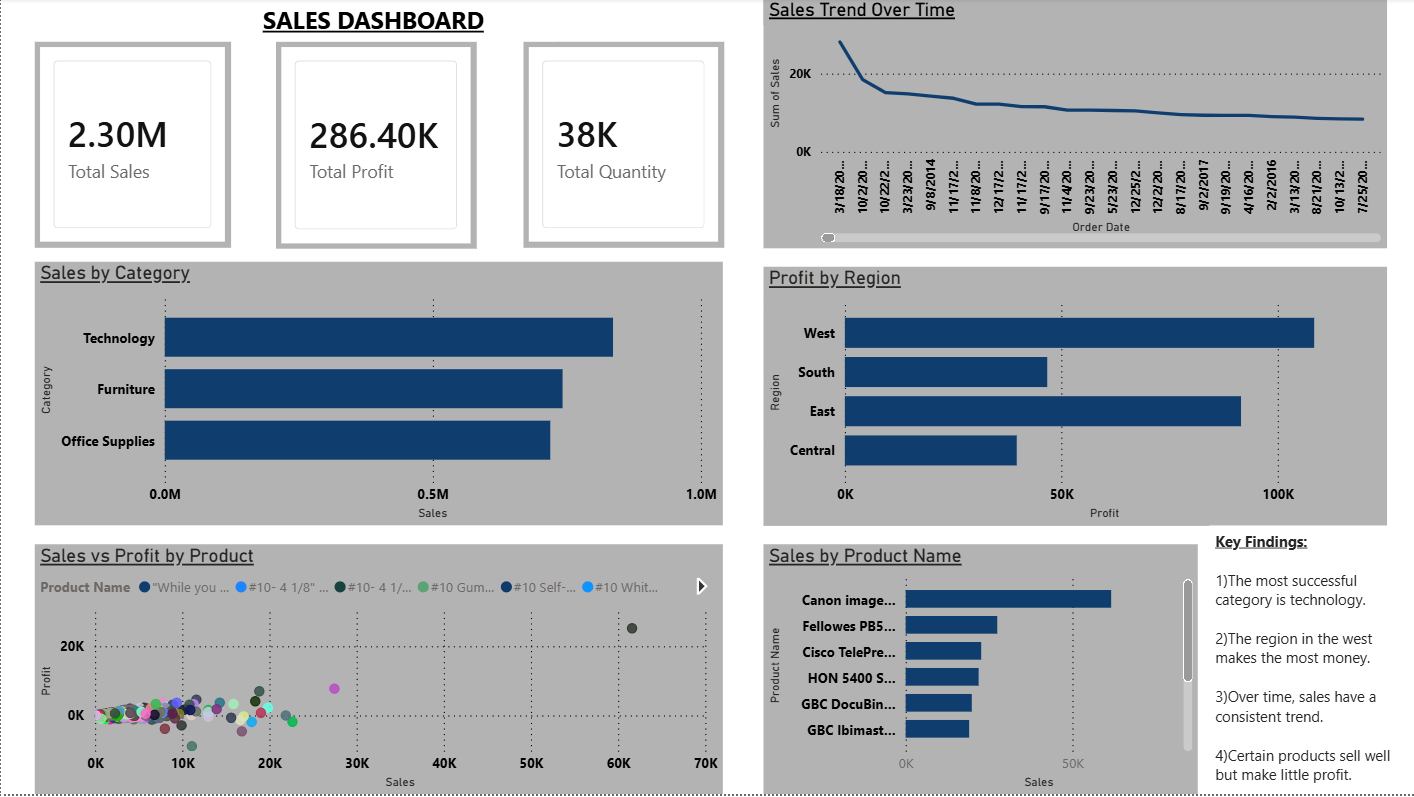

Layout of this report page (visuals, bound fields, positions):
{"tool":"powerbi","page":{"name":"Page 1","canvas":[1280,720],"ordinal":0},"visuals":[{"type":"cardVisual","fields":{"Data":["Sum(Sample - Superstore.Sales)"]},"box":[30.7,0,177.3,226.1],"z":0},{"type":"cardVisual","fields":{"Data":["Sum(Sample - Superstore.Profit)"]},"box":[248.9,1.1,181.8,226.1],"z":1000},{"type":"cardVisual","fields":{"Data":["Sum(Sample - Superstore.Quantity)"]},"box":[471.6,0,181.8,226.1],"z":2000},{"type":"lineChart","title":"Sales Trend Over Time","fields":{"Category":["Sample - Superstore.Order Date"],"Y":["Sum(Sample - Superstore.Sales)"]},"box":[689.8,0,563.6,226.1],"z":3000},{"type":"clusteredBarChart","fields":{"Category":["Sample - Superstore.Category"],"Y":["Sum(Sample - Superstore.Sales)"]},"box":[30.7,238.6,622.7,238.6],"z":4000},{"type":"clusteredBarChart","fields":{"Category":["Sample - Superstore.Region"],"Y":["Sum(Sample - Superstore.Profit)"]},"box":[689.8,243.2,563.6,234.1],"z":5000},{"type":"clusteredBarChart","fields":{"Category":["Sample - Superstore.Product Name"],"Y":["Sum(Sample - Superstore.Sales)"]},"box":[689.8,494.3,393.2,226.1],"z":6000},{"type":"scatterChart","title":"Sales vs Profit by Product","fields":{"X":["Sum(Sample - Superstore.Sales)"],"Y":["Sum(Sample - Superstore.Profit)"],"Series":["Sample - Superstore.Product Name"]},"box":[30.7,494.3,622.7,226.1],"z":7000},{"type":"textbox","box":[1093.2,477.3,186.4,243.2],"z":7001}]}

Visuals, with their boxes in screenshot pixels (x1, y1, x2, y2), scaled from the page's 1280x720 canvas onto the 1414x797 screenshot:
cardVisual - Sum(Sample - Superstore.Sales): 34, 0, 230, 250
cardVisual - Sum(Sample - Superstore.Profit): 275, 1, 476, 251
cardVisual - Sum(Sample - Superstore.Quantity): 521, 0, 722, 250
"Sales Trend Over Time" lineChart: 762, 0, 1385, 250
clusteredBarChart - Sample - Superstore.Category x Sum(Sample - Superstore.Sales): 34, 264, 722, 528
clusteredBarChart - Sample - Superstore.Region x Sum(Sample - Superstore.Profit): 762, 269, 1385, 528
clusteredBarChart - Sample - Superstore.Product Name x Sum(Sample - Superstore.Sales): 762, 547, 1196, 796
"Sales vs Profit by Product" scatterChart: 34, 547, 722, 796
textbox: 1208, 528, 1413, 796
